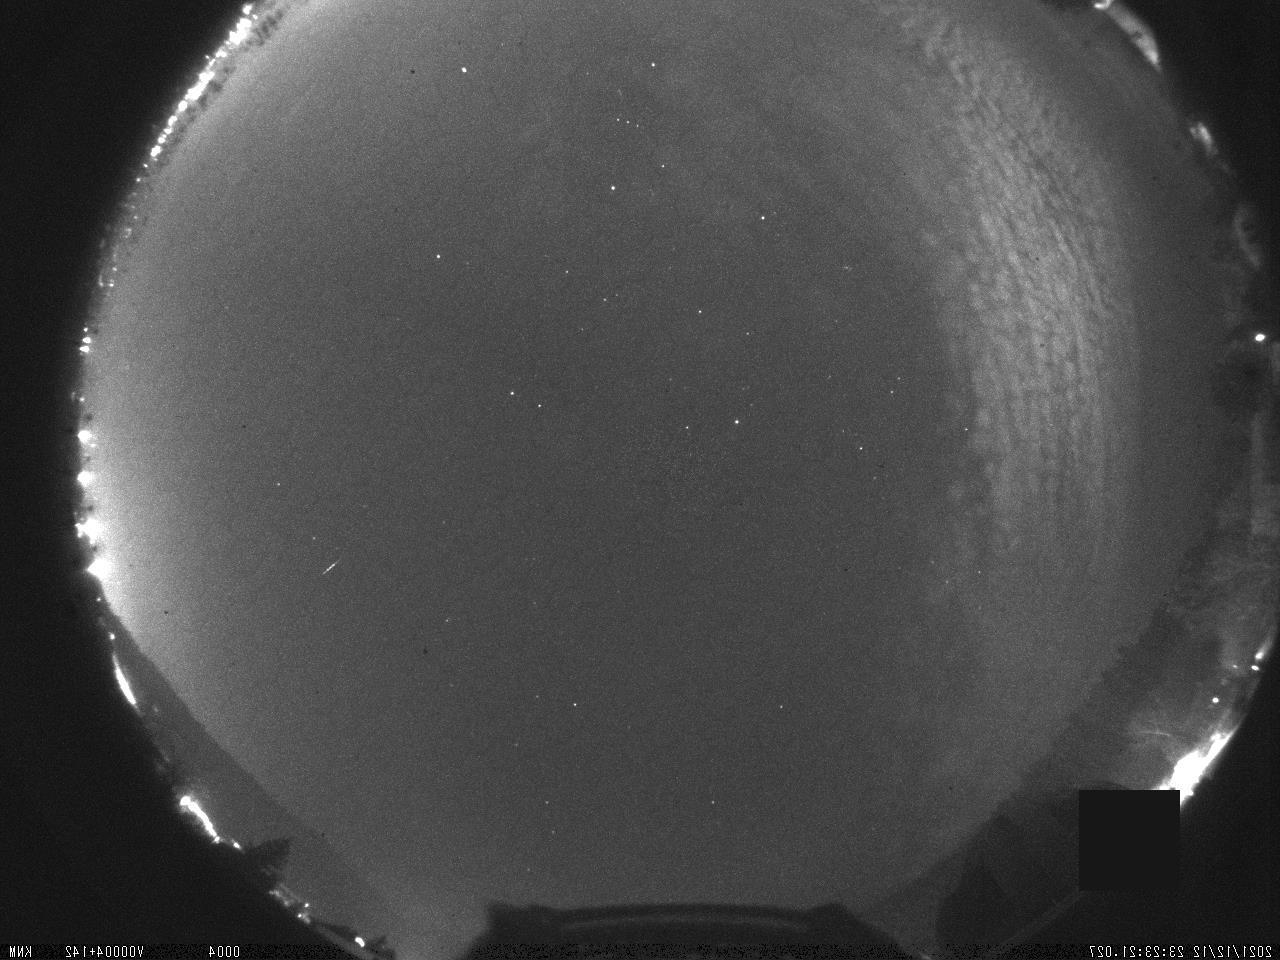meteor: (308, 551, 352, 588)
